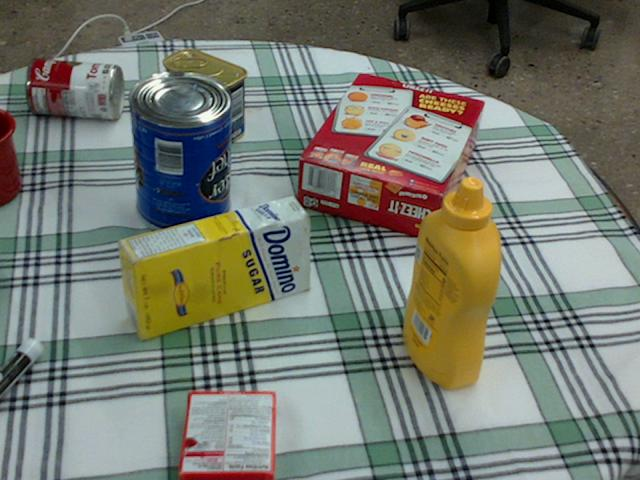cracker_box: (297, 73, 483, 239)
gelatin_box: (177, 392, 273, 479)
large_marker: (0, 338, 42, 396)
master_chef_can: (125, 71, 230, 235)
mug: (0, 107, 21, 203)
mustard_bottle: (403, 176, 500, 386)
potted_meat_can: (162, 49, 246, 143)
sugar_box: (117, 196, 309, 339)
tomato_soup_can: (25, 58, 123, 117)
